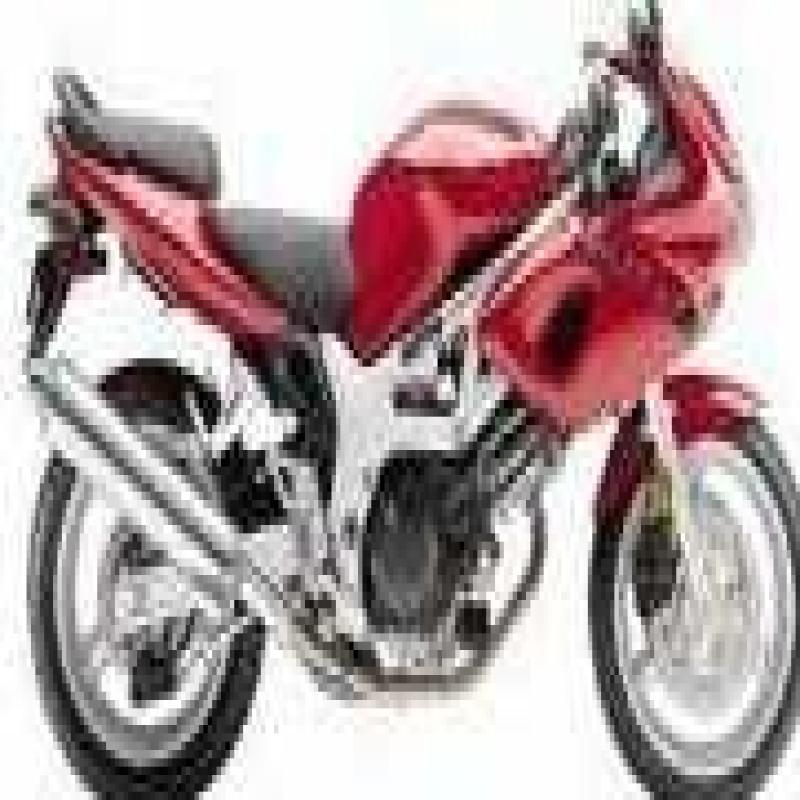bike: (10, 4, 800, 799)
